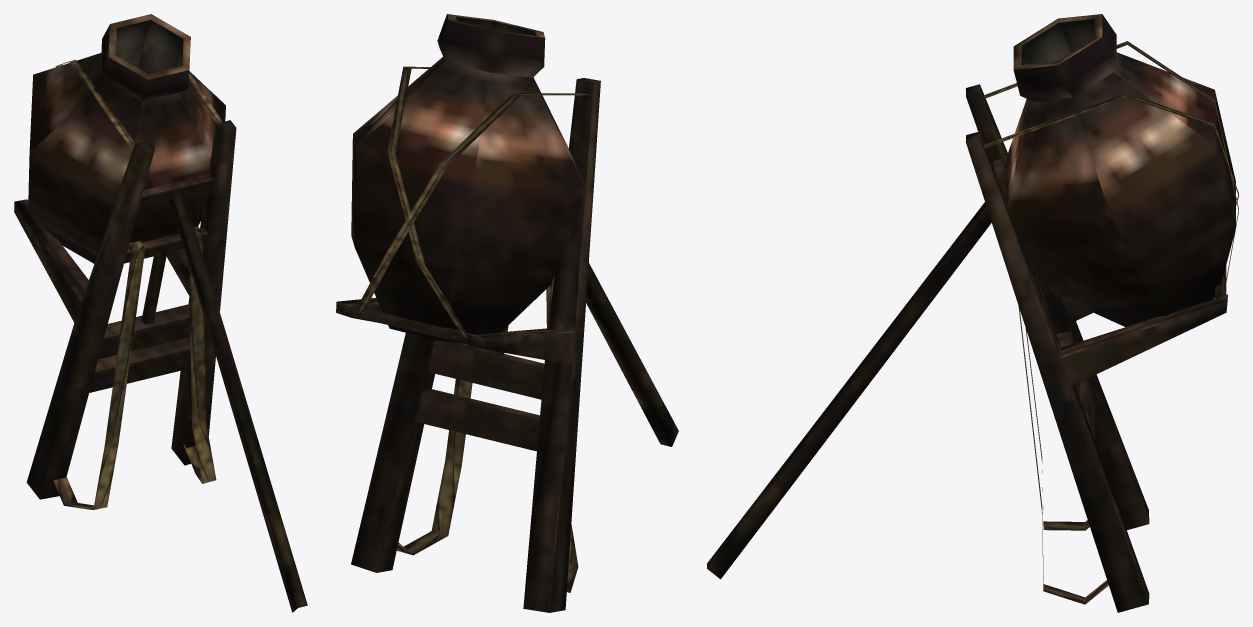
File: b_general_obj_10_01.glb
3 views of the same model, side by side, from view 1: azimuth 30°, elevation 25°; view 2: azimuth 150°, elevation 25°; view 3: azimuth 270°, elevation 25° (orthographic). The views are drawn at different scales.
Parts seen in each view (by area): view 1: B_general_obj_06; view 2: B_general_obj_06; view 3: B_general_obj_06.
Part boxes in pixels (x1,y1,x2,y2): B_general_obj_06: (14, 14, 307, 612); B_general_obj_06: (336, 14, 678, 612); B_general_obj_06: (707, 14, 1238, 612).
Bounding box in the file's own units: 0.9218 × 2.12 × 1.86.
1 material, 1 textured.
